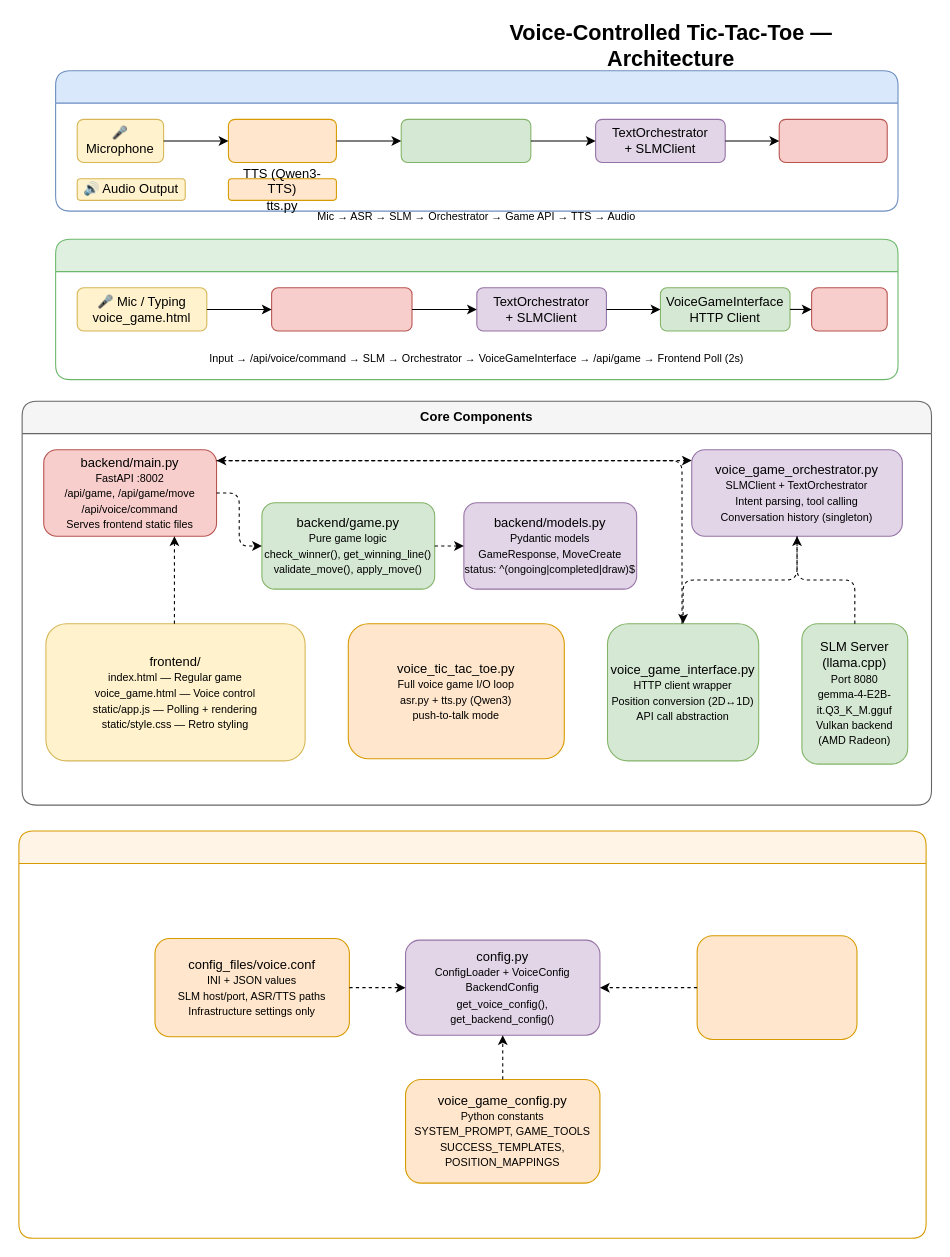
Some shapes in this 950 by 1257 pixel diagram are drawn without their labels. Here are the shapes that lost their labels. From the top down, the box of each, then its label:
(227, 118, 336, 163): ASR (Qwen3-ASR) asr.py
(400, 118, 531, 163): SLM (Gemma-4) llama.cpp :8080
(55, 70, 898, 211): Full Voice Pipeline
(778, 118, 887, 163): Game API FastAPI :8002
(271, 287, 412, 331): /api/voice/command FastAPI :8002
(55, 238, 898, 380): Browser Voice Mode
(811, 287, 887, 331): /api/game /api/game/move
(696, 935, 857, 1040): config_files/backend.conf INI + JSON values Server host/port, game settings
(18, 830, 926, 1238): Configuration
